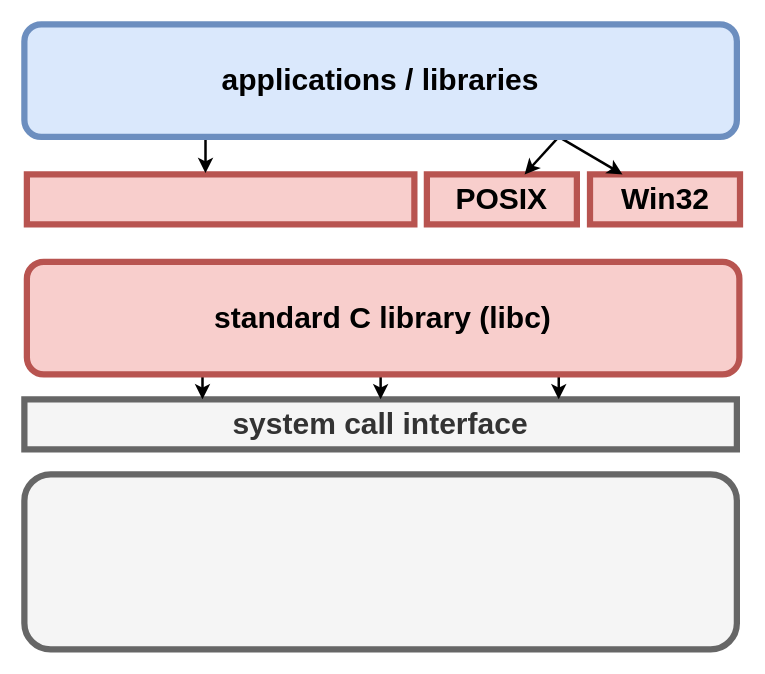
Some shapes in this 765 by 674 pixel diagram are drawn without their labels. Each missing label, with the centre of its shape:
"operating system" goes at point 380,561.
"standard API (ISO/ANSI)" goes at point 220,199.
